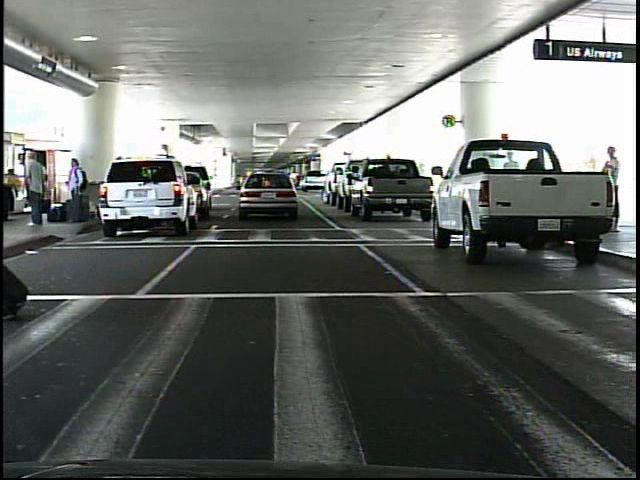person: (593, 143, 625, 231), (22, 150, 50, 227), (63, 156, 87, 225)
